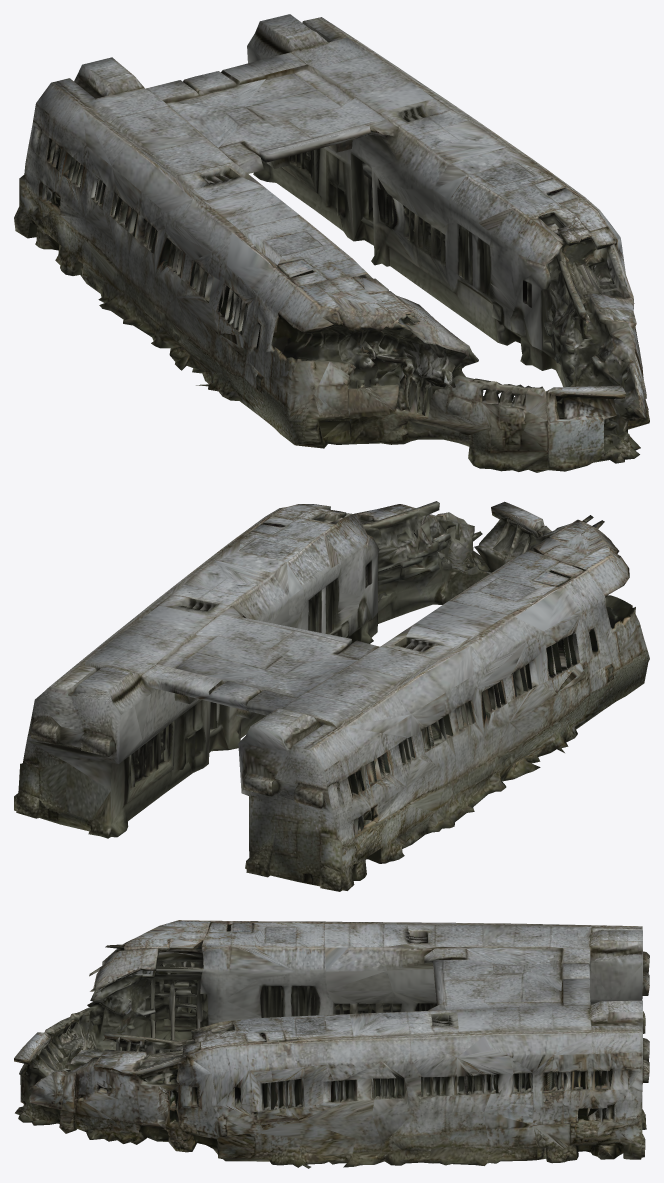
Rendered from sunken_transport.glb.
3 renders of one model, top to bottom at view 1: azimuth 30°, elevation 25°; view 2: azimuth 150°, elevation 25°; view 3: azimuth 270°, elevation 25°, orthographic. The views are drawn at different scales.
Size of the model in its own units: 0.574 by 0.2155 by 0.9999.
1 material, 1 textured.
